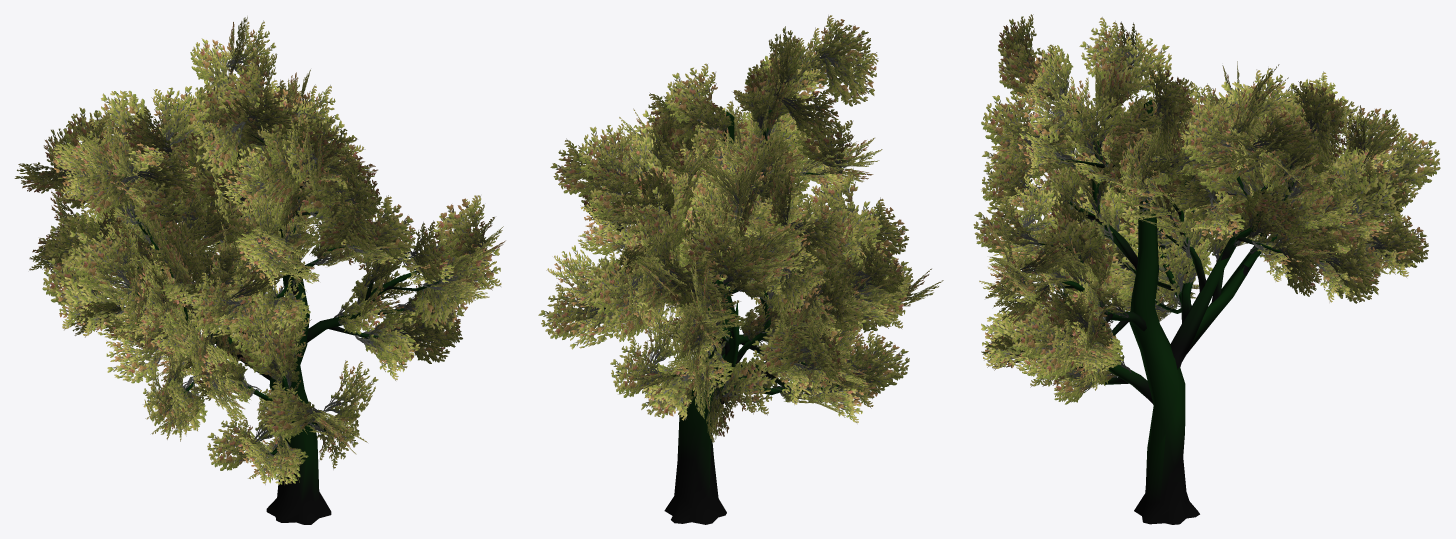
File: tree6_2_afsTREE_xao_xlprl_LOD1.fbx
3 renders of one model, left to right at view 1: azimuth 30°, elevation 25°; view 2: azimuth 150°, elevation 25°; view 3: azimuth 270°, elevation 25°, orthographic.
Parts seen in each view (by area): view 1: branch.001_xw25_xt15_xp15, leaf1.312, leaf1.047, leaf1.018, leaf.161, leaf.036, leaf1.009, leaf1.155, leaf1.096, leaf.095, leaf.156, leaf1.035 (+74 smaller); view 2: branch.001_xw25_xt15_xp15, leaf1.054, leaf1.089, leaf1.156, leaf1.095, leaf.072, leaf1.139, leaf.185, leaf1.144, leaf1.074, leaf1.053, leaf.120 (+81 smaller); view 3: branch.001_xw25_xt15_xp15, branch.022_xw29_xt21_xp27, leaf1.083, leaf1.179, leaf1.107, leaf1.077, leaf1.299, leaf.041, leaf1.026, leaf.029, leaf1.030, leaf1.229 (+66 smaller).
Part boxes in pixels (x1,y1,x2,y2): branch.001_xw25_xt15_xp15: (266, 229, 331, 524); leaf1.312: (153, 86, 209, 149); leaf1.047: (370, 196, 415, 257); leaf1.018: (413, 277, 473, 330); leaf.161: (82, 233, 129, 286); leaf.036: (265, 389, 326, 435); leaf1.009: (363, 310, 423, 363); leaf1.155: (138, 153, 199, 200); leaf1.096: (245, 89, 298, 140); leaf.095: (208, 120, 245, 168); leaf.156: (88, 169, 139, 215); leaf1.035: (325, 361, 378, 417); branch.001_xw25_xt15_xp15: (664, 111, 739, 524); leaf1.054: (823, 54, 878, 106); leaf1.089: (855, 334, 909, 389); leaf1.156: (790, 216, 846, 267); leaf1.095: (779, 99, 841, 137); leaf.072: (715, 361, 763, 414); leaf1.139: (723, 241, 770, 299); leaf.185: (586, 132, 633, 185); leaf1.144: (770, 268, 818, 319); leaf1.074: (643, 362, 691, 418); leaf1.053: (811, 20, 870, 66); leaf.120: (762, 328, 811, 372); branch.001_xw25_xt15_xp15: (1129, 100, 1199, 524); branch.022_xw29_xt21_xp27: (1170, 195, 1266, 369); leaf1.083: (1389, 127, 1440, 188); leaf1.179: (1347, 172, 1406, 223); leaf1.107: (1326, 239, 1380, 296); leaf1.077: (1371, 212, 1428, 268); leaf1.299: (1066, 95, 1124, 147); leaf.041: (988, 99, 1035, 151); leaf1.026: (1036, 221, 1100, 266); leaf.029: (980, 204, 1038, 252); leaf1.030: (1024, 174, 1064, 230); leaf1.229: (1070, 183, 1126, 240).
Bounding box in the file's own units: 7.35 × 8.76 × 8.
